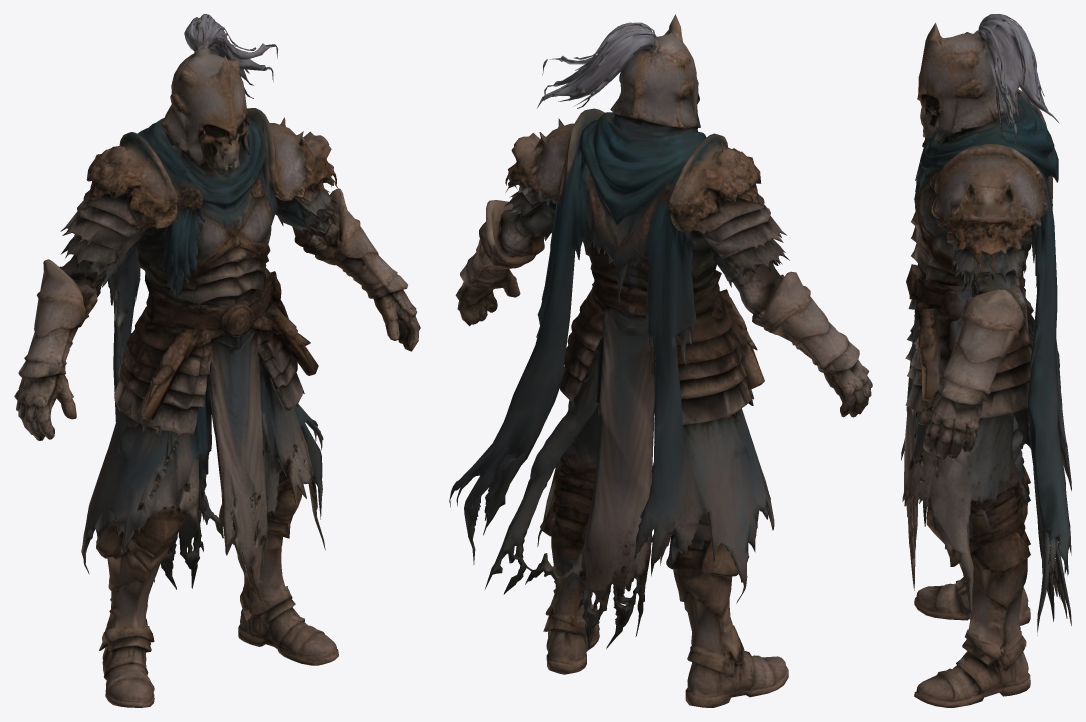
Rendered from skeleton.glb.
3 renders of one model, left to right at view 1: azimuth 30°, elevation 25°; view 2: azimuth 150°, elevation 25°; view 3: azimuth 270°, elevation 25°, orthographic. The views are drawn at different scales.
Parts seen in each view (by area): view 1: material; view 2: material; view 3: material.
Part boxes in pixels (bbox=[...]): material: bbox=[14, 14, 420, 707]; material: bbox=[449, 14, 872, 707]; material: bbox=[901, 14, 1071, 707].
Size of the model in its own units: 1.13 by 1.76 by 0.4227.
Materials: 1 (1 with a texture image).
